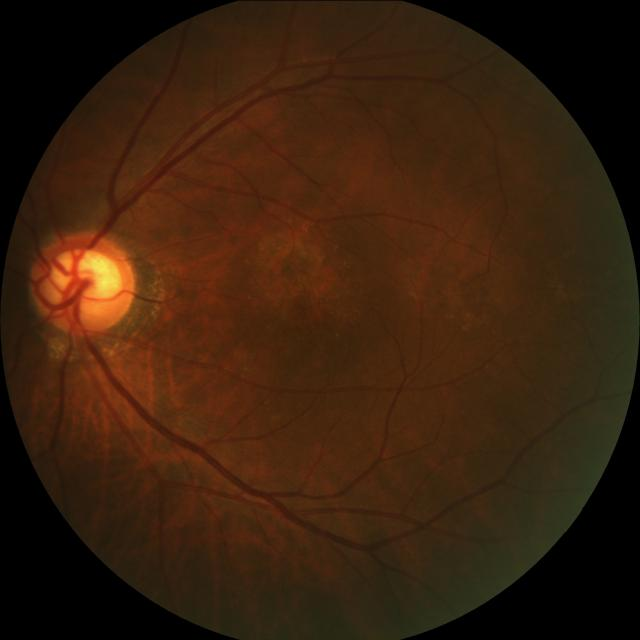OC: (47, 246, 118, 316)
OD: (28, 229, 134, 334)
